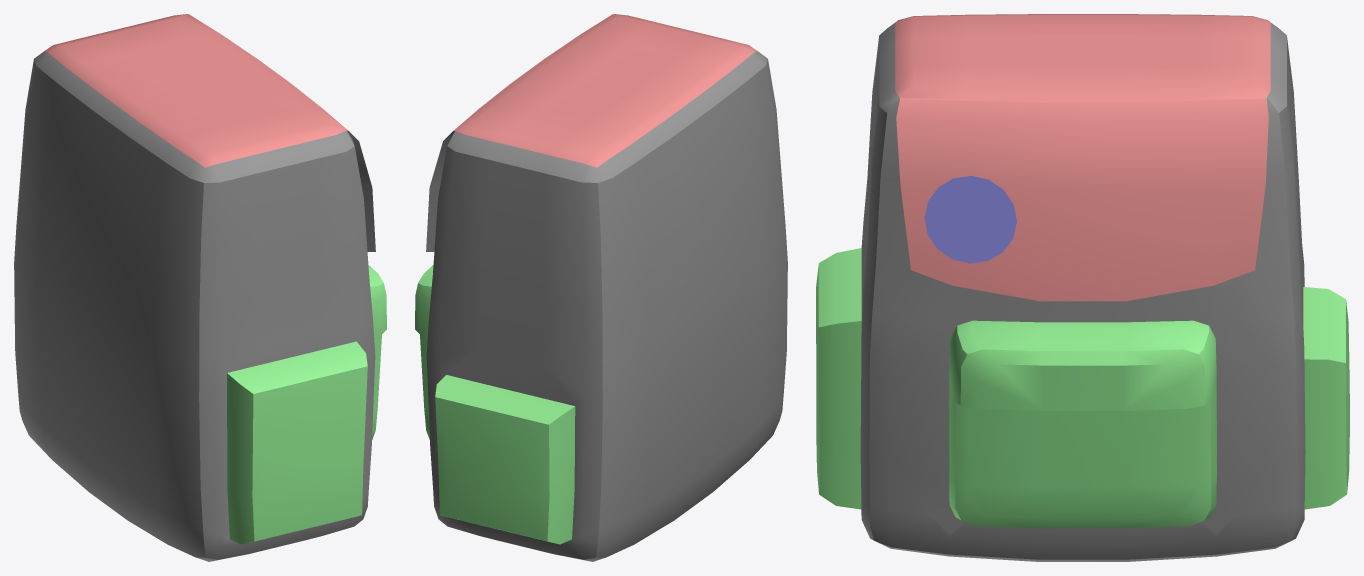
Rendered from Backpack3.fbx.
3 renders of one model, left to right at view 1: azimuth 30°, elevation 25°; view 2: azimuth 150°, elevation 25°; view 3: azimuth 270°, elevation 25°, orthographic. The views are drawn at different scales.
Visible parts, largest first — view 1: SM_Backpack03; view 2: SM_Backpack03; view 3: SM_Backpack03.
Part boxes in pixels (x1=…): SM_Backpack03: x1=14, y1=14, x2=386, y2=561; SM_Backpack03: x1=415, y1=14, x2=787, y2=561; SM_Backpack03: x1=816, y1=14, x2=1349, y2=561.
Size of the model in its own units: 62.11 by 96.55 by 98.11.
